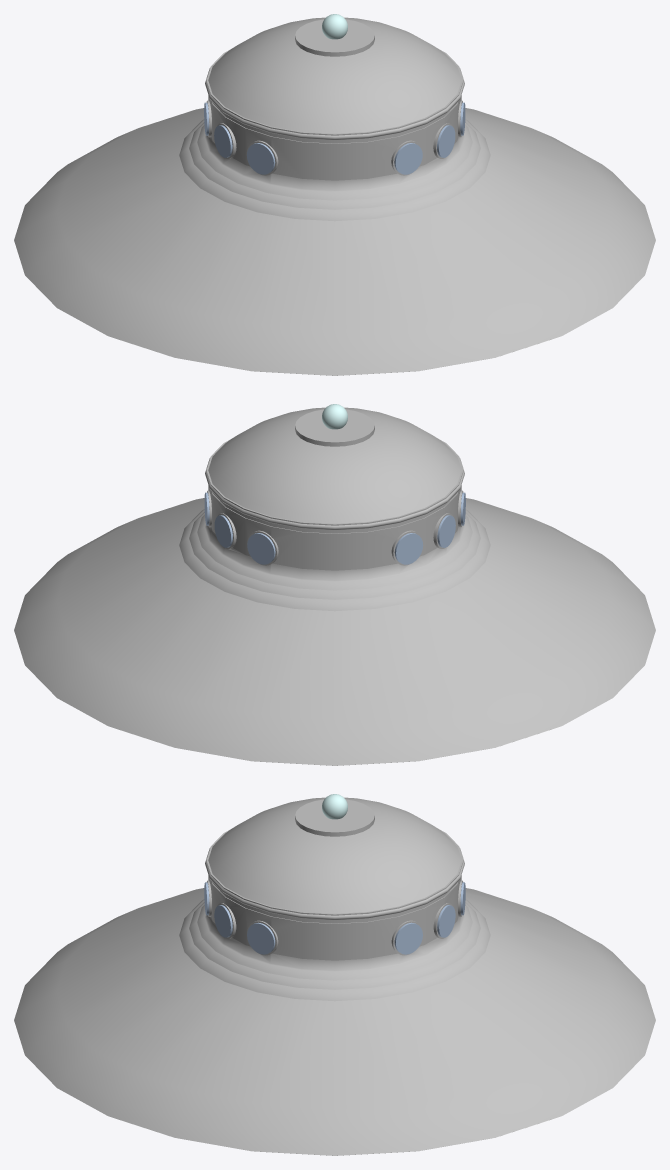
Rendered from ufo.dae.
3 renders of one model, top to bottom at view 1: azimuth 30°, elevation 25°; view 2: azimuth 150°, elevation 25°; view 3: azimuth 270°, elevation 25°, orthographic.
Parts seen in each view (by area): view 1: group_0 (×7); view 2: group_0 (×7); view 3: group_0 (×7).
Boxes of the visible parts, left/top/right/bottom form: group_0 (×7): left=14, top=14, right=655, bottom=375; group_0 (×7): left=14, top=404, right=655, bottom=765; group_0 (×7): left=14, top=794, right=655, bottom=1155.
Bounding box in the file's own units: 967 × 967 × 437.
